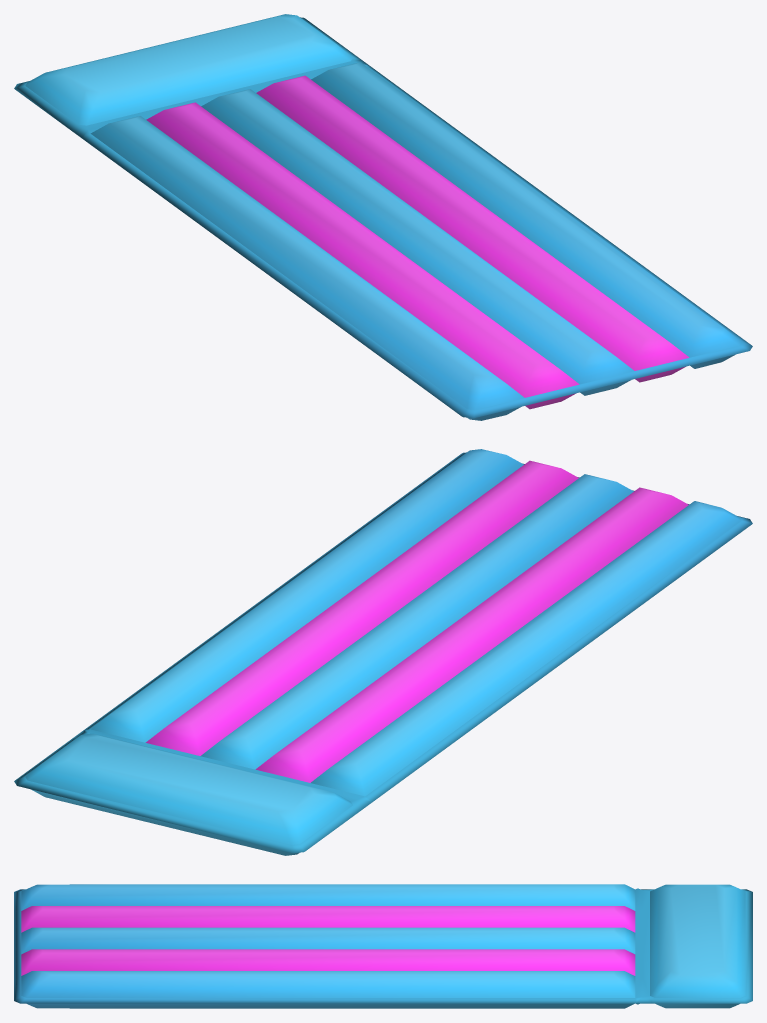
The model's file is Mattress_Stripes_C.fbx.
3 renders of one model, top to bottom at view 1: azimuth 30°, elevation 25°; view 2: azimuth 150°, elevation 25°; view 3: azimuth 270°, elevation 25°, orthographic. The views are drawn at different scales.
Parts seen in each view (by area): view 1: Mattress_Stripes_C; view 2: Mattress_Stripes_C; view 3: Mattress_Stripes_C.
Boxes of the visible parts, x1=… form: Mattress_Stripes_C: x1=14, y1=14, x2=752, y2=420; Mattress_Stripes_C: x1=14, y1=449, x2=752, y2=855; Mattress_Stripes_C: x1=14, y1=884, x2=752, y2=1008.
Size of the model in its own units: 79.6 by 10.83 by 217.
